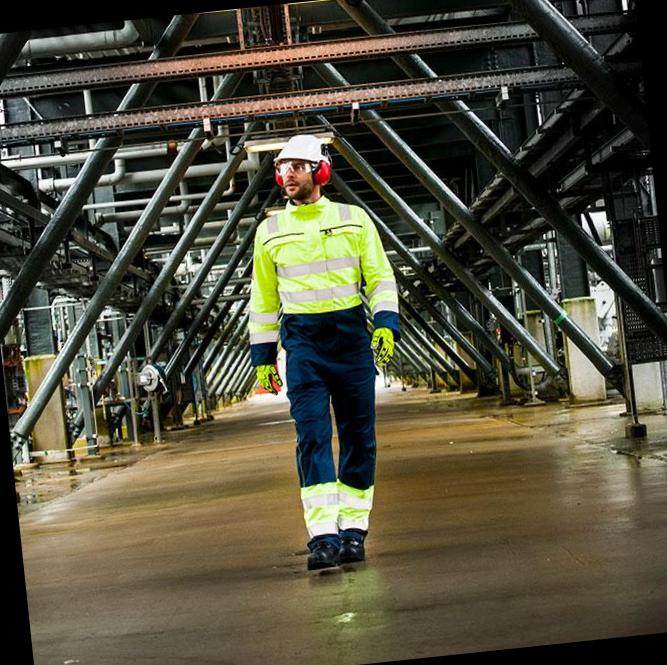Helmet: (256, 128, 346, 192)
Vest: (233, 188, 403, 347)
